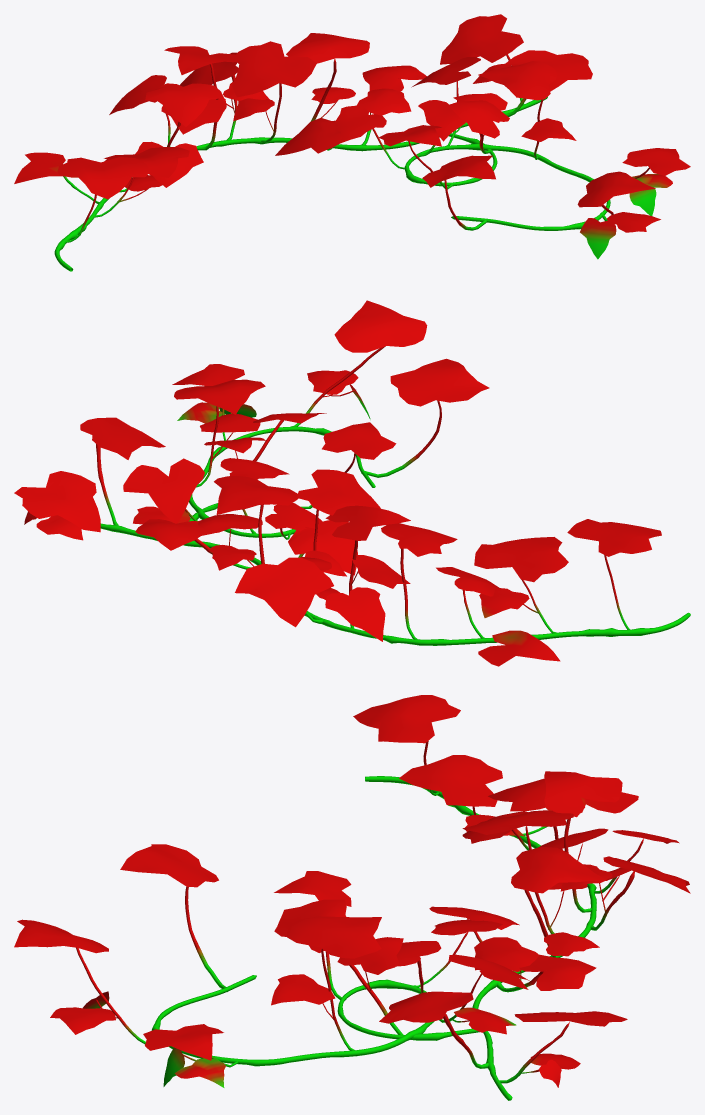
The model's file is Var6_LOD0.fbx.
3 renders of one model, top to bottom at view 1: azimuth 30°, elevation 25°; view 2: azimuth 150°, elevation 25°; view 3: azimuth 270°, elevation 25°, orthographic. The views are drawn at different scales.
Visible parts, largest first — view 1: _by26_Var6_LOD0; view 2: _by26_Var6_LOD0; view 3: _by26_Var6_LOD0.
Part boxes in pixels (x1,y1,x2,y2): _by26_Var6_LOD0: [14, 14, 690, 271]; _by26_Var6_LOD0: [14, 300, 690, 666]; _by26_Var6_LOD0: [14, 695, 690, 1100].
Size of the model in its own units: 63.05 by 12.09 by 55.44.
